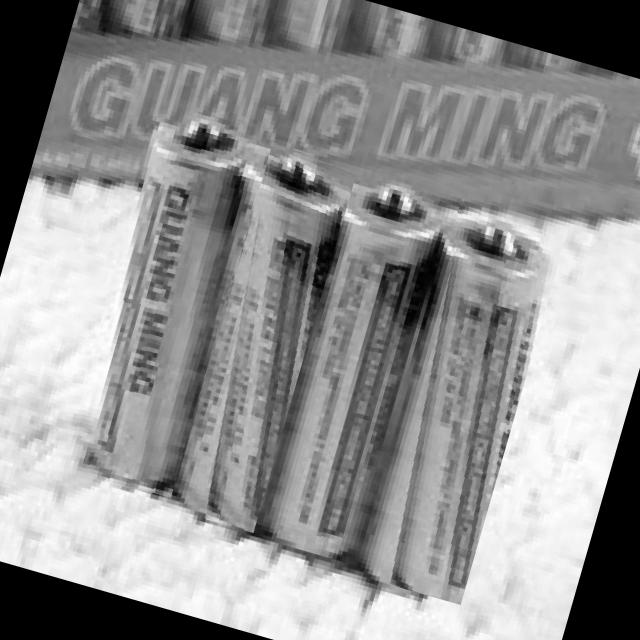Hazard: (49, 100, 274, 502), (251, 161, 464, 564), (356, 200, 567, 606), (166, 140, 358, 532)
